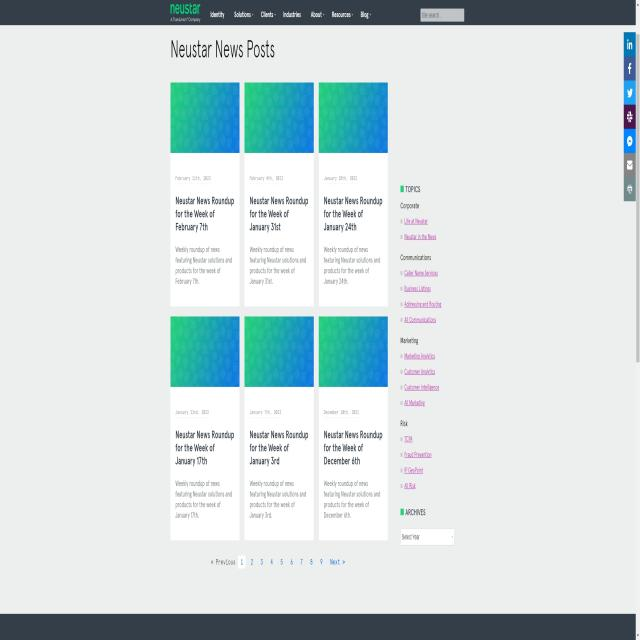search: (419, 6, 466, 23)
side-panel: (400, 178, 456, 548)
tab-bar: (210, 6, 373, 22)
